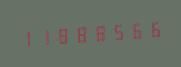eight: (53, 22, 70, 48), (71, 21, 88, 47), (89, 20, 106, 45)
five: (107, 18, 124, 44)
one: (35, 23, 52, 49), (17, 25, 34, 50)
six: (125, 17, 142, 43), (143, 16, 160, 42)
